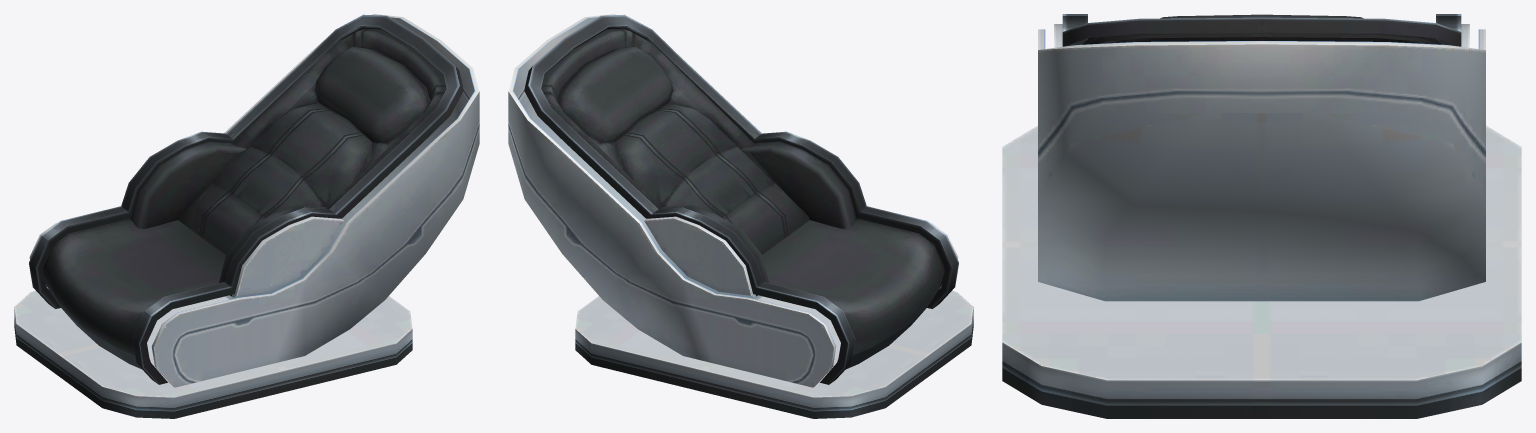
Rendered from my_millenniumlounge_01_massagechair_01.glb.
3 views of the same model, side by side, from view 1: azimuth 30°, elevation 25°; view 2: azimuth 150°, elevation 25°; view 3: azimuth 270°, elevation 25° (orthographic). The views are drawn at different scales.
Parts seen in each view (by area): view 1: my_millenniumlounge_01_massagechair_01; view 2: my_millenniumlounge_01_massagechair_01; view 3: my_millenniumlounge_01_massagechair_01.
Boxes of the visible parts, left/top/right/bottom form: my_millenniumlounge_01_massagechair_01: left=14, top=14, right=479, bottom=418; my_millenniumlounge_01_massagechair_01: left=508, top=14, right=973, bottom=418; my_millenniumlounge_01_massagechair_01: left=1002, top=14, right=1521, bottom=418.
Size of the model in its own units: 0.0106 by 0.00662 by 0.00691.
Materials: 2 (2 with a texture image).
